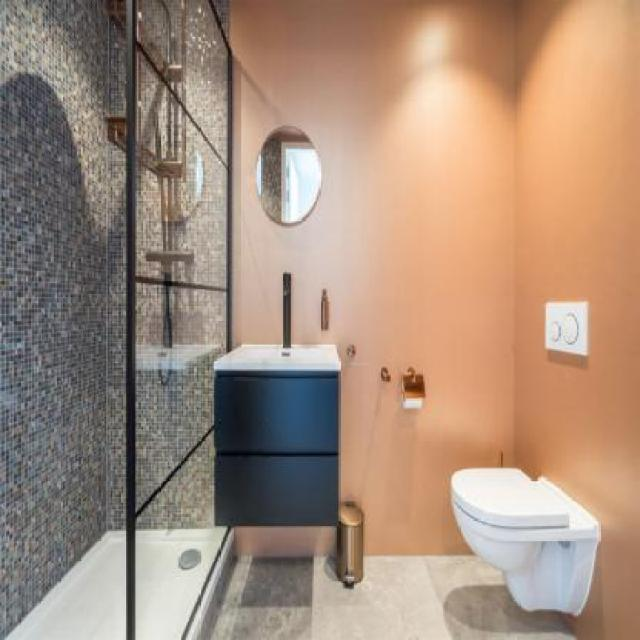floor: (206, 555, 578, 640)
